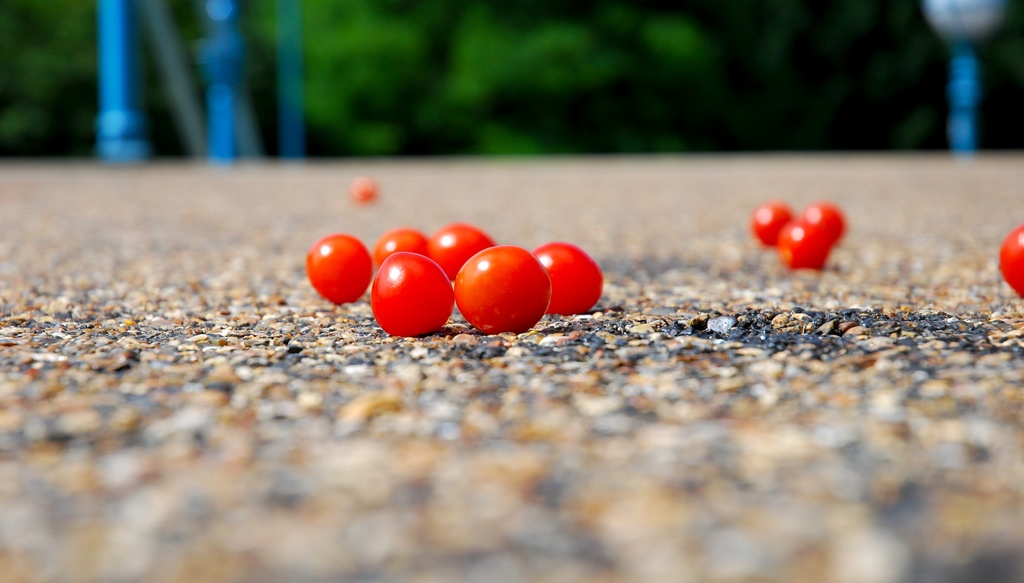Tomato: (457, 243, 551, 332), (365, 249, 444, 332), (529, 241, 604, 319), (305, 230, 372, 302), (433, 221, 497, 273), (773, 217, 830, 272), (371, 226, 432, 275), (997, 220, 1023, 296), (752, 202, 792, 243), (802, 204, 840, 245)
